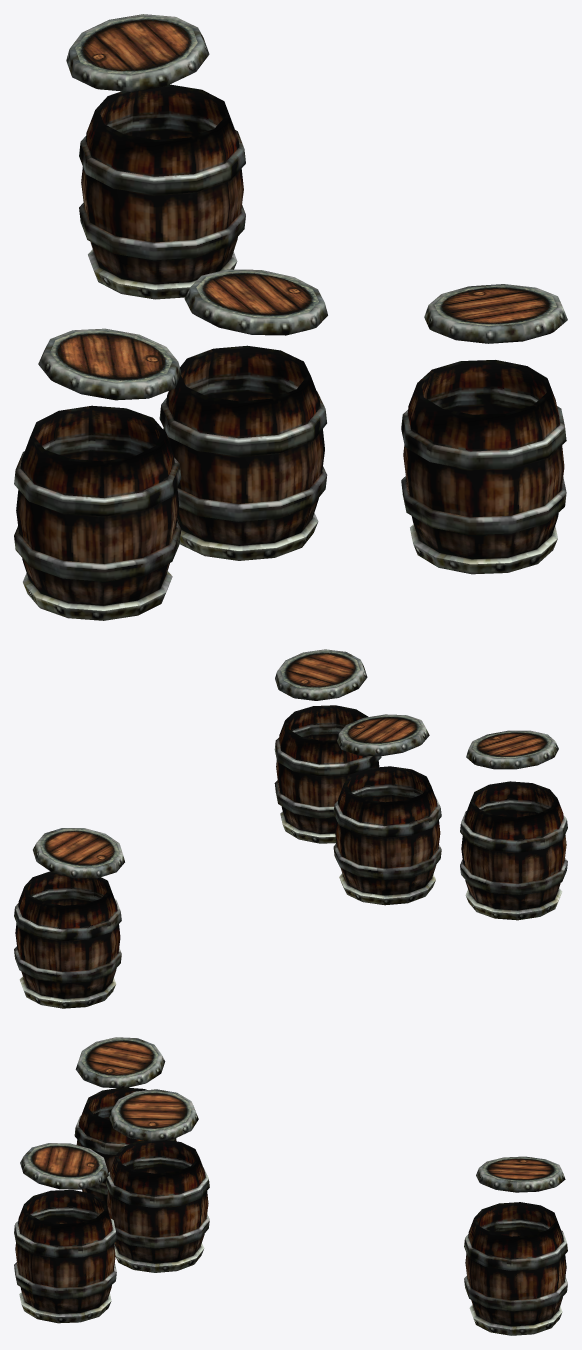
Rendered from CH7CIN6_ANIM_INST.fbx.
3 views of the same model, one above another, from view 1: azimuth 30°, elevation 25°; view 2: azimuth 150°, elevation 25°; view 3: azimuth 270°, elevation 25° (orthographic). The views are drawn at different scales.
Visible parts, largest first — view 1: CH7CIN6_ANIM_INST; view 2: CH7CIN6_ANIM_INST; view 3: CH7CIN6_ANIM_INST.
Part boxes in pixels (x1=…): CH7CIN6_ANIM_INST: x1=14, y1=14, x2=567, y2=620; CH7CIN6_ANIM_INST: x1=14, y1=649, x2=567, y2=1008; CH7CIN6_ANIM_INST: x1=14, y1=1037, x2=567, y2=1335.
Size of the model in its own units: 28299 by 12562 by 41760.
2 materials, 2 textured.
